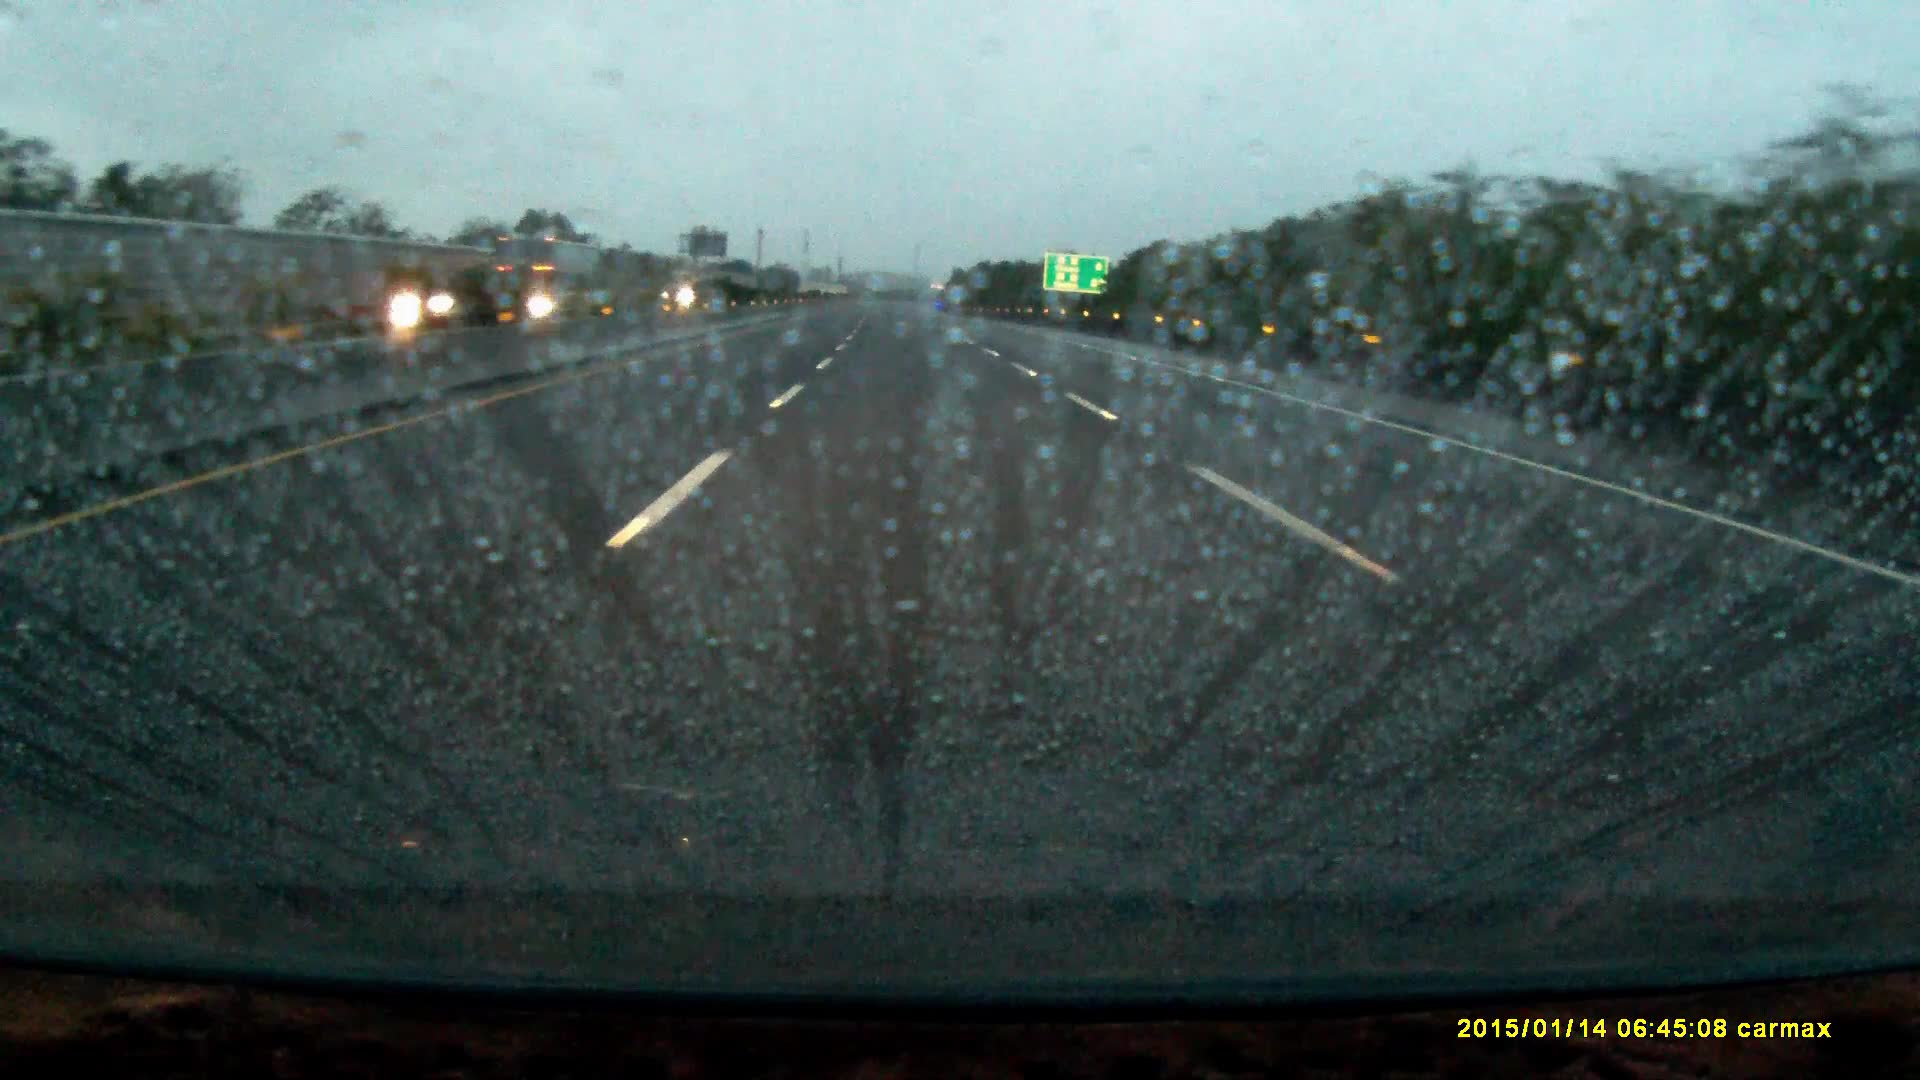vehicle: (495, 237, 603, 320), (392, 284, 479, 330)
